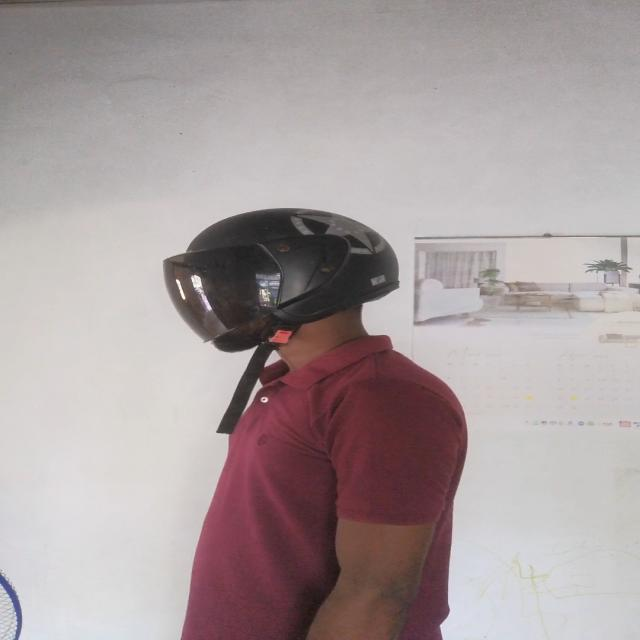Helmet_Wearer: (142, 206, 419, 355)
